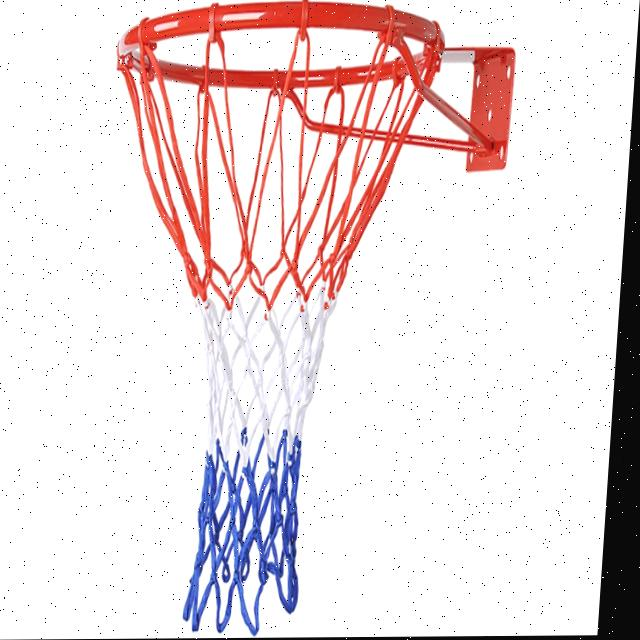hoop: (77, 0, 449, 637)
